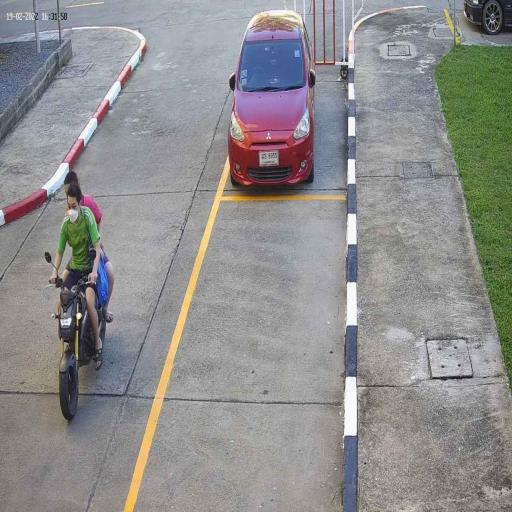car: (226, 9, 317, 192)
motorcycle: (54, 275, 108, 422)
